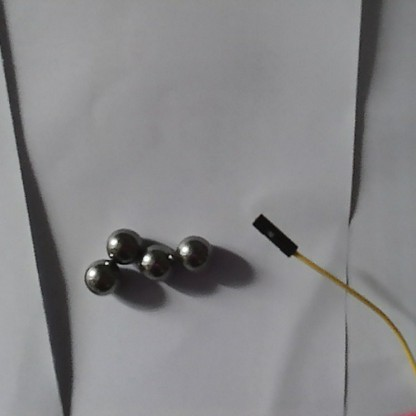ironball: (106, 227, 140, 265), (84, 257, 116, 296), (141, 245, 175, 280), (178, 235, 211, 271)
